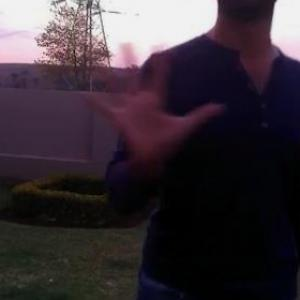follow_hand: (83, 35, 226, 158)
